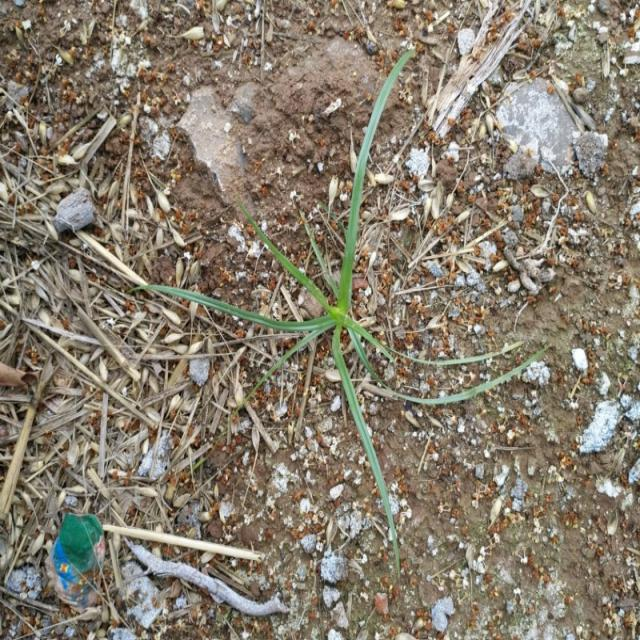sedge: (140, 83, 486, 470)
